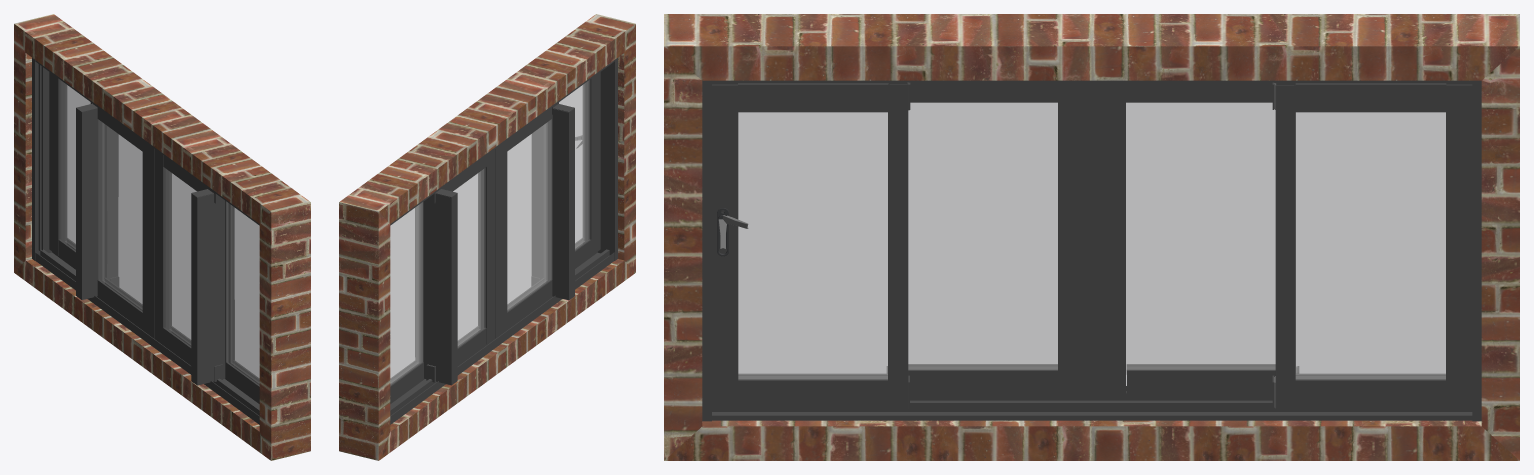
Rendered from Window_panels_export_v2.gltf.
3 views of the same model, side by side, from view 1: azimuth 30°, elevation 25°; view 2: azimuth 150°, elevation 25°; view 3: azimuth 270°, elevation 25° (orthographic). The views are drawn at different scales.
Visible parts, largest first — view 1: Window_frame, Window_panel_01, Window_panel_04, Window_panel_03, Window_panel_02, Window_rail; view 2: Window_frame, Window_panel_04, Window_panel_01, Window_panel_02, Window_panel_03, Window_rail; view 3: Window_frame, Window_panel_04, Window_panel_01, Window_panel_02, Window_panel_03, Window_rail.
Part boxes in pixels (x1,y1,x2,y2): Window_frame: (14,14,310,460); Window_panel_01: (191,188,259,403); Window_panel_04: (49,72,118,299); Window_panel_03: (97,107,149,334); Window_panel_02: (150,146,207,364); Window_rail: (32,58,259,424); Window_frame: (339,14,635,460); Window_panel_04: (390,189,457,403); Window_panel_01: (531,72,600,300); Window_panel_02: (495,107,552,338); Window_panel_03: (441,149,494,365); Window_rail: (390,58,617,424); Window_frame: (664,14,1519,460); Window_panel_04: (1272,82,1472,408); Window_panel_01: (712,82,910,408); Window_panel_02: (908,85,1099,398); Window_panel_03: (1099,85,1275,398); Window_rail: (702,80,1481,421).
Bounding box in the file's own units: 0.5202 × 2.59 × 4.85.
Materials: 6 (2 with a texture image).
